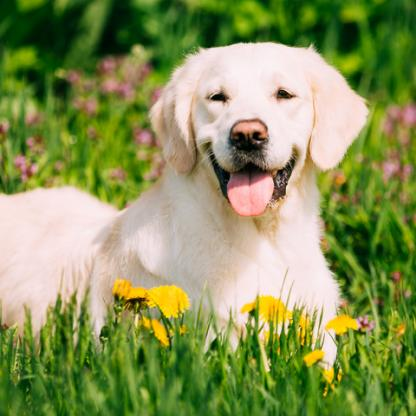dog: (0, 46, 371, 351)
